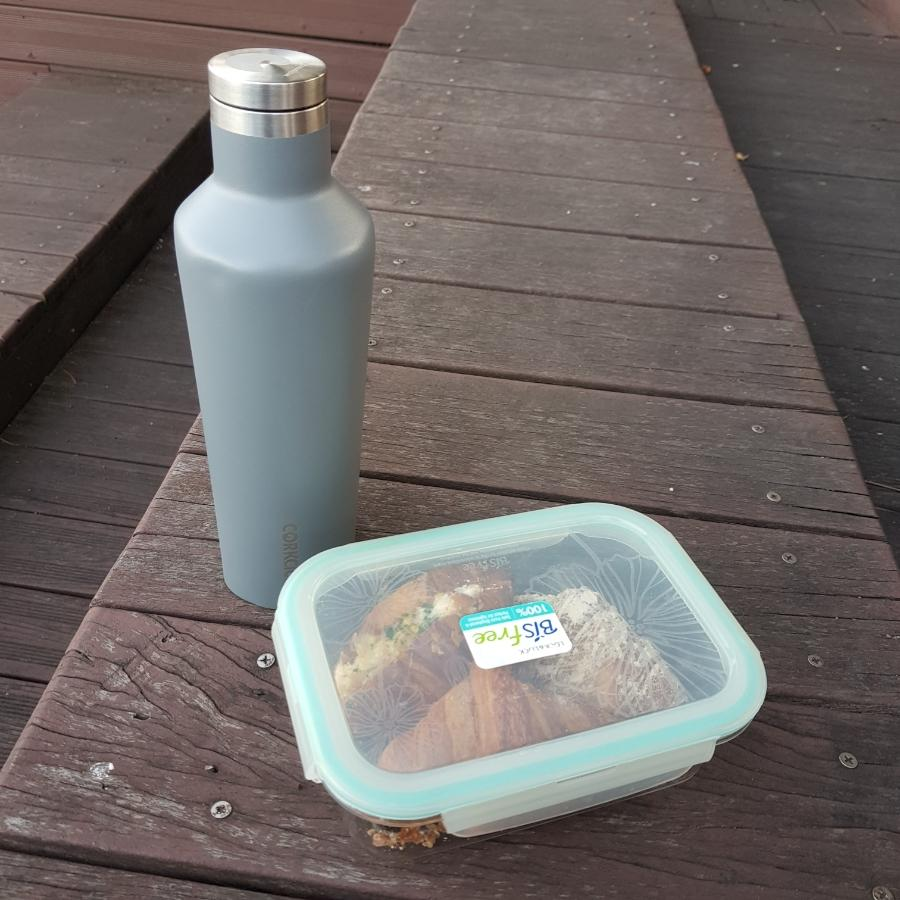Bottle: (174, 48, 374, 607)
Lunch Box: (273, 504, 764, 858)
